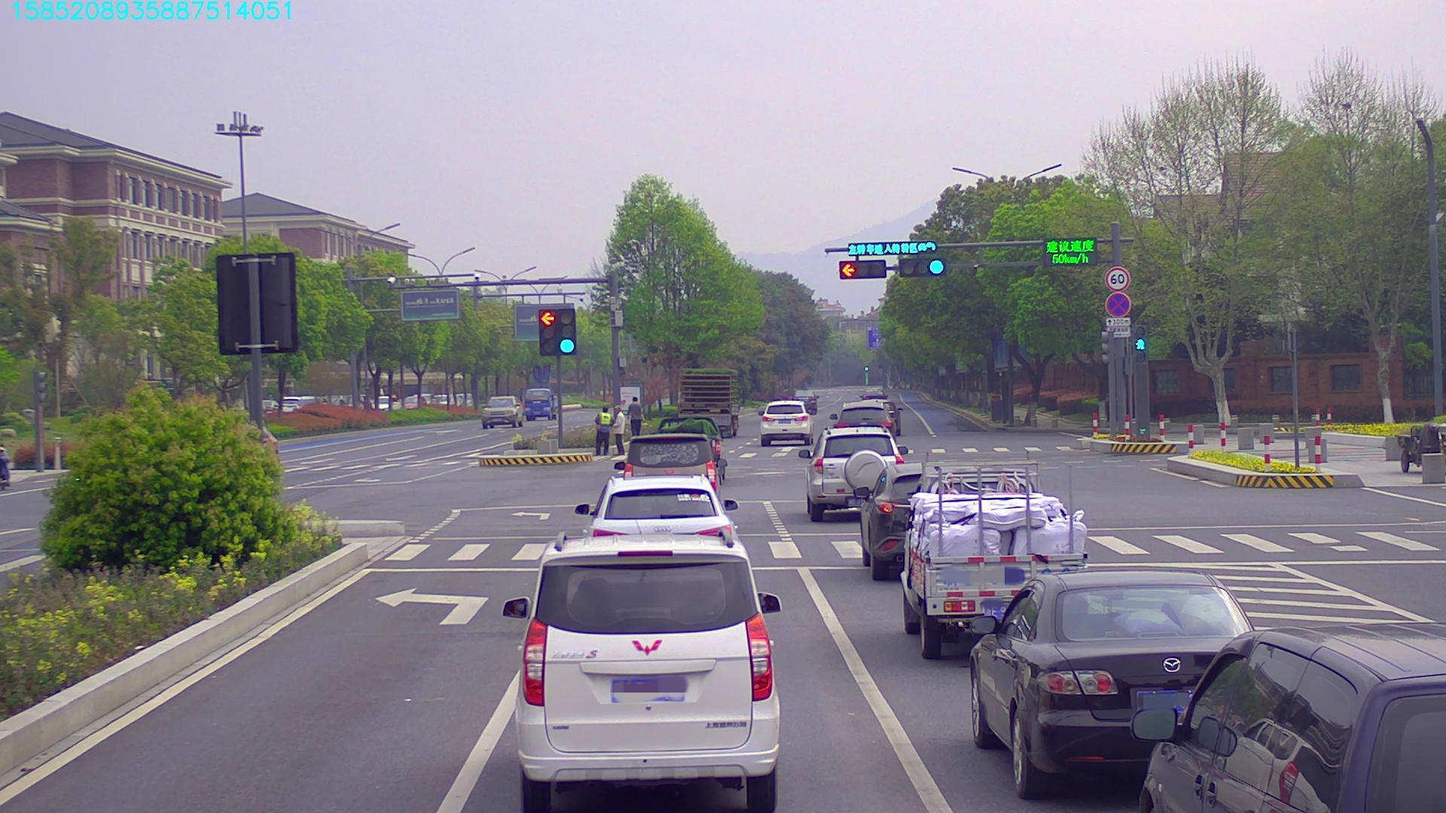green: (904, 255, 944, 278)
red: (837, 257, 886, 280)
wait_on: (850, 242, 941, 257)
